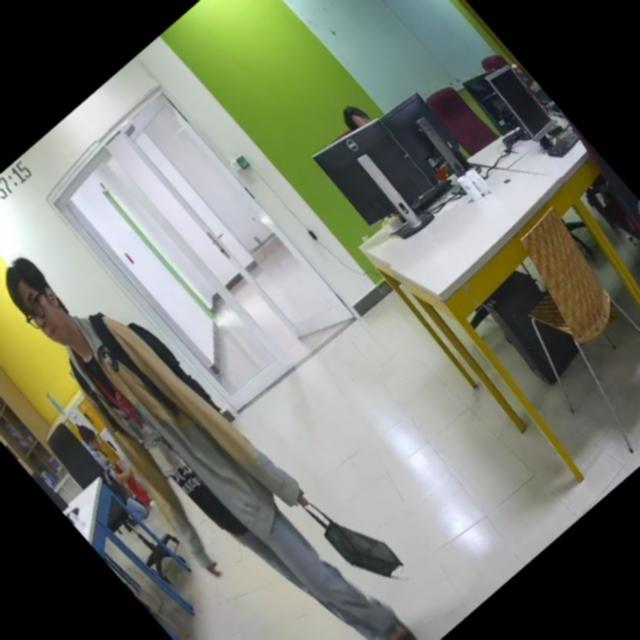person: (0, 211, 437, 640)
